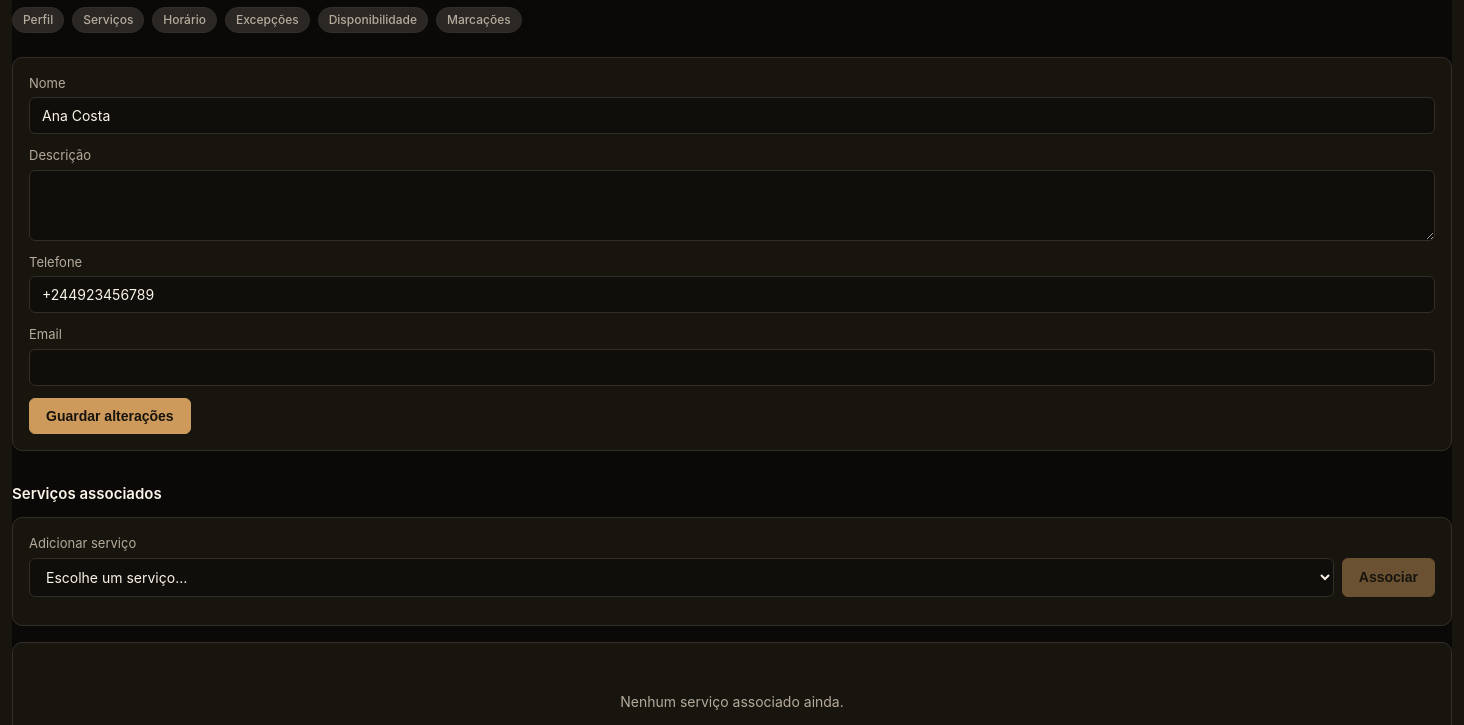
Test case: ProfessionalDetailPage — associated services (empty/associate/remove) › OWNER associates a Service from the dropdown of active, not-yet-associated services
Select "Manicure — 30 min — 15,00 Kz" in the dropdown labelled "Adicionar serviço": (681, 577) [29,558,1334,596]
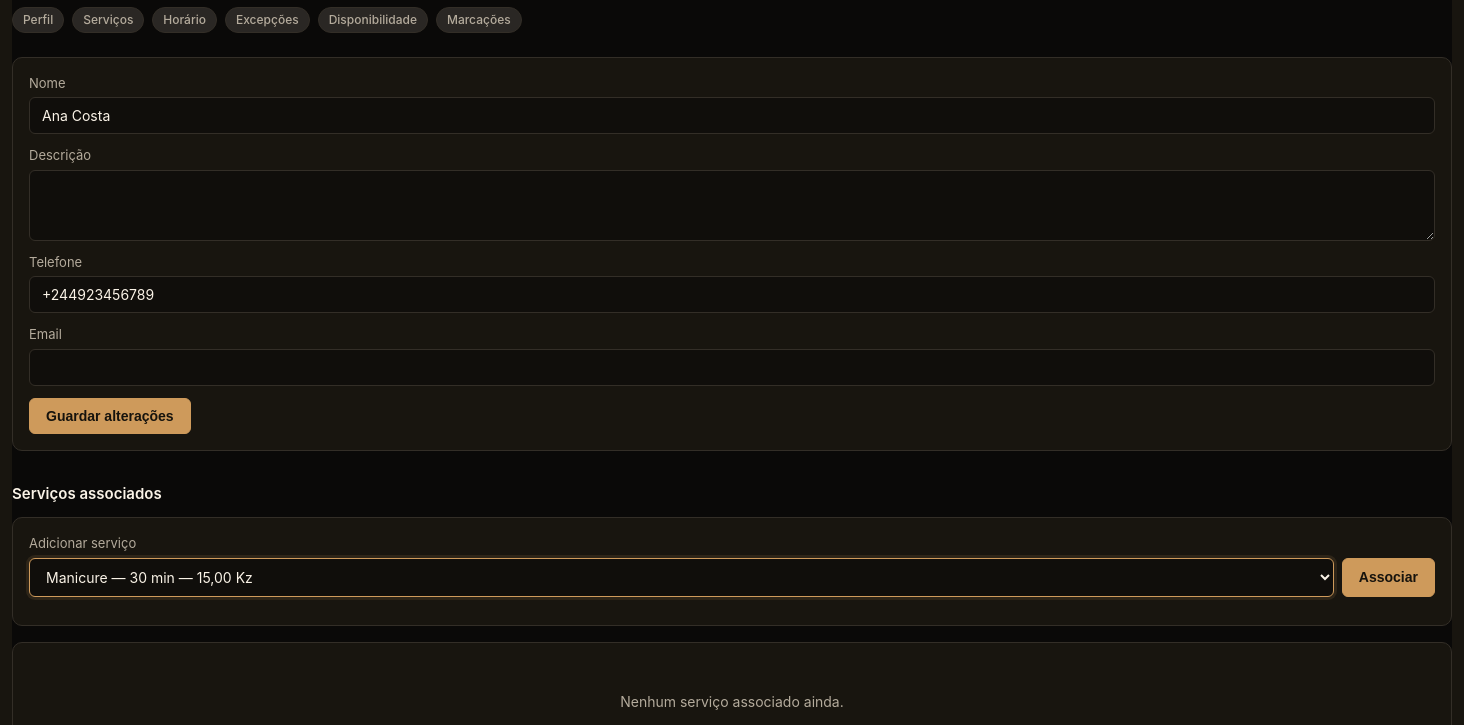
Click the button "Associar": click(1388, 577) [1342,558,1435,596]
(page scrolled)
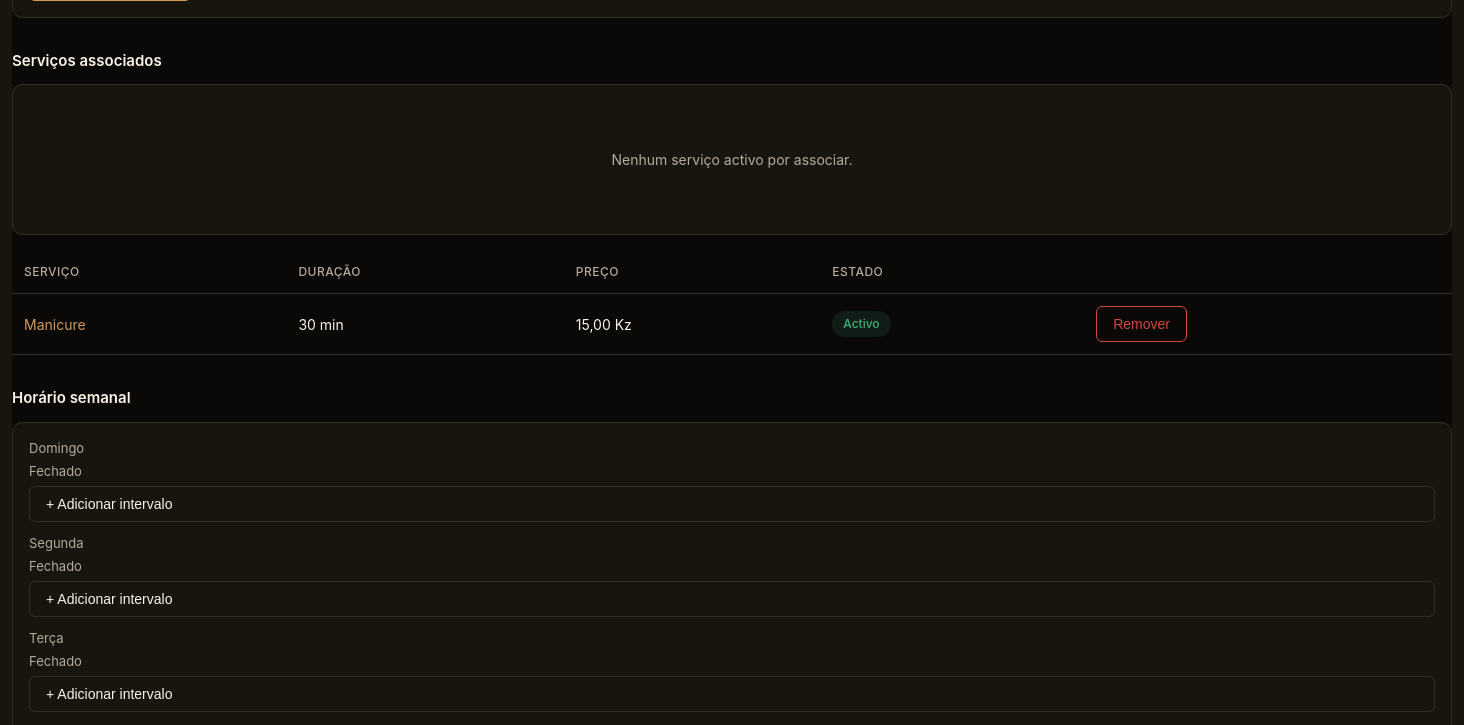
Check: the link "Manicure" is shown, box [24,316,86,332]
